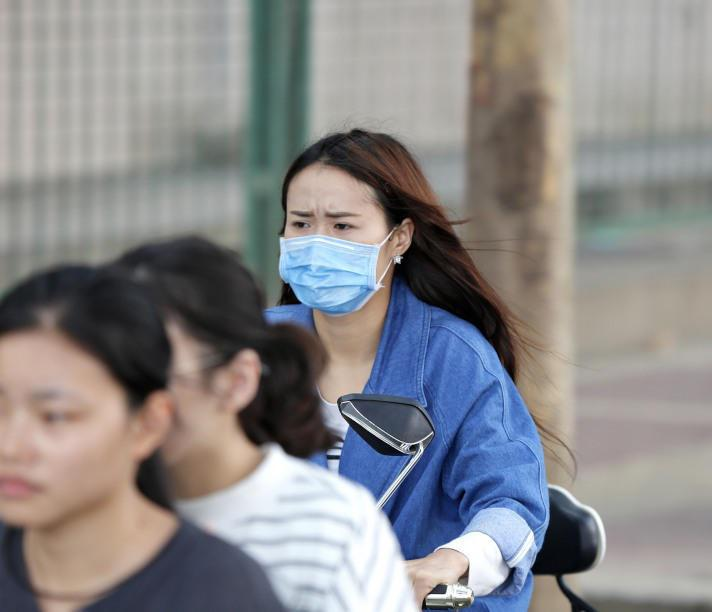NONE: (1, 363, 114, 523)
OK: (279, 199, 388, 308)
